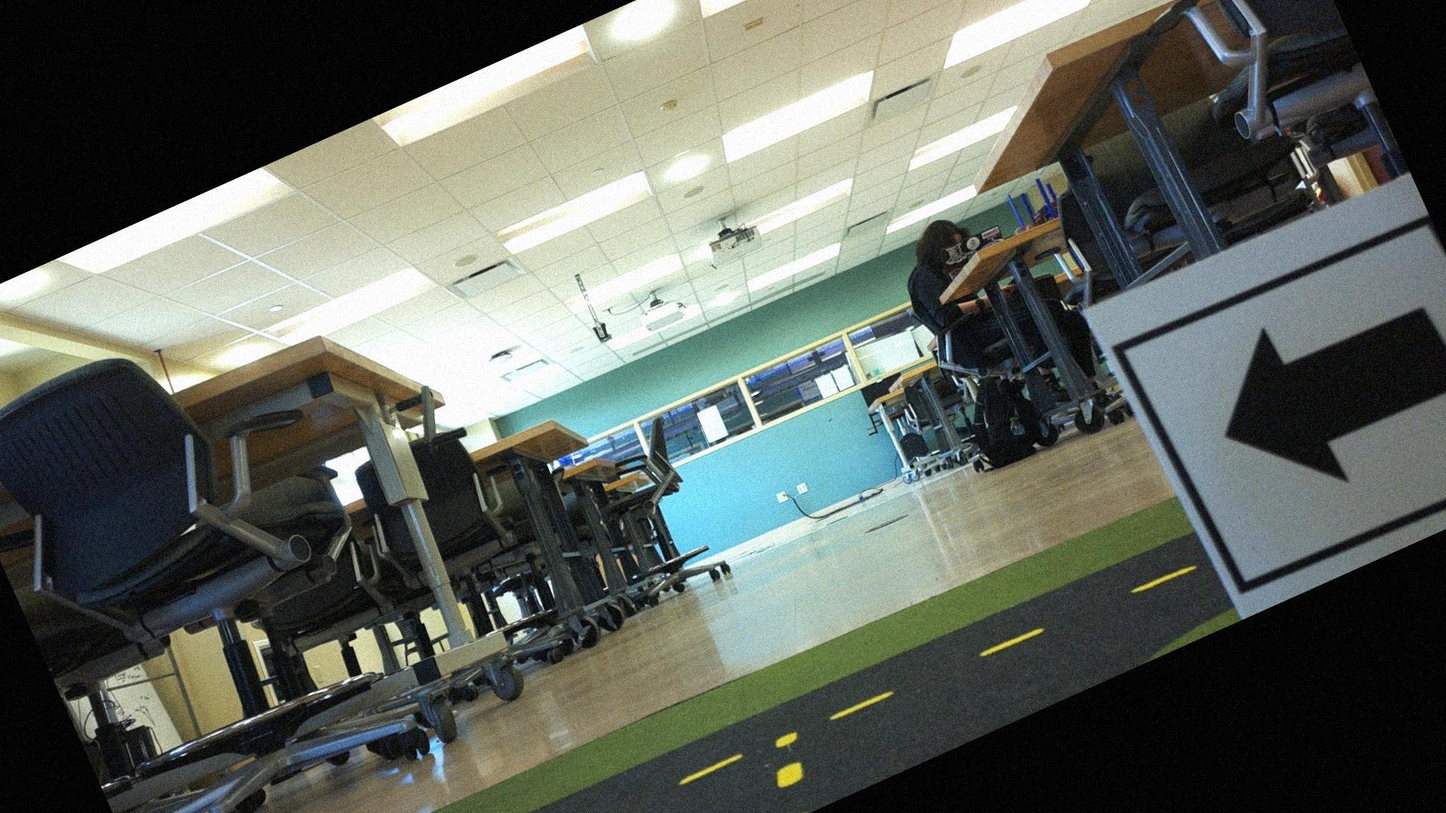turnright: (1127, 221, 1445, 597)
yellowline: (203, 538, 1197, 812), (757, 729, 818, 796)
